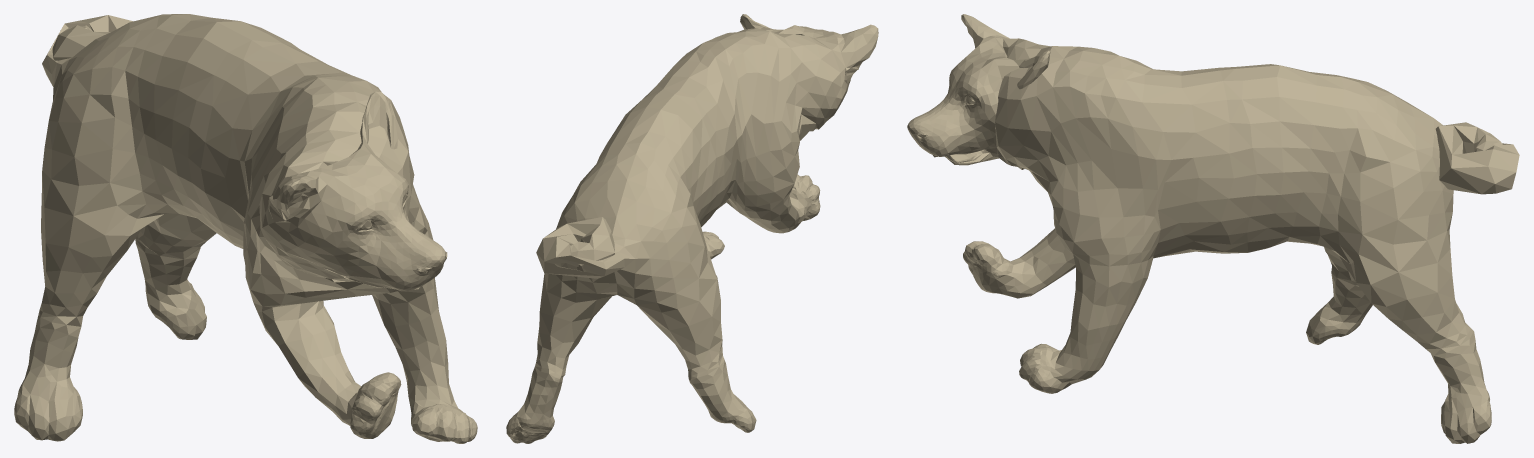
The picture shows the model from 3 angles, left to right: view 1: azimuth 30°, elevation 25°; view 2: azimuth 150°, elevation 25°; view 3: azimuth 270°, elevation 25°; orthographic projection. The views are drawn at different scales.
Parts seen in each view (by area): view 1: world; view 2: world; view 3: world.
Part boxes in pixels (x1,y1,x2,y2): world: [14, 14, 477, 443]; world: [506, 14, 878, 443]; world: [907, 14, 1519, 443].
Bounding box in the file's own units: 0.5278 × 0.7923 × 1.2.
